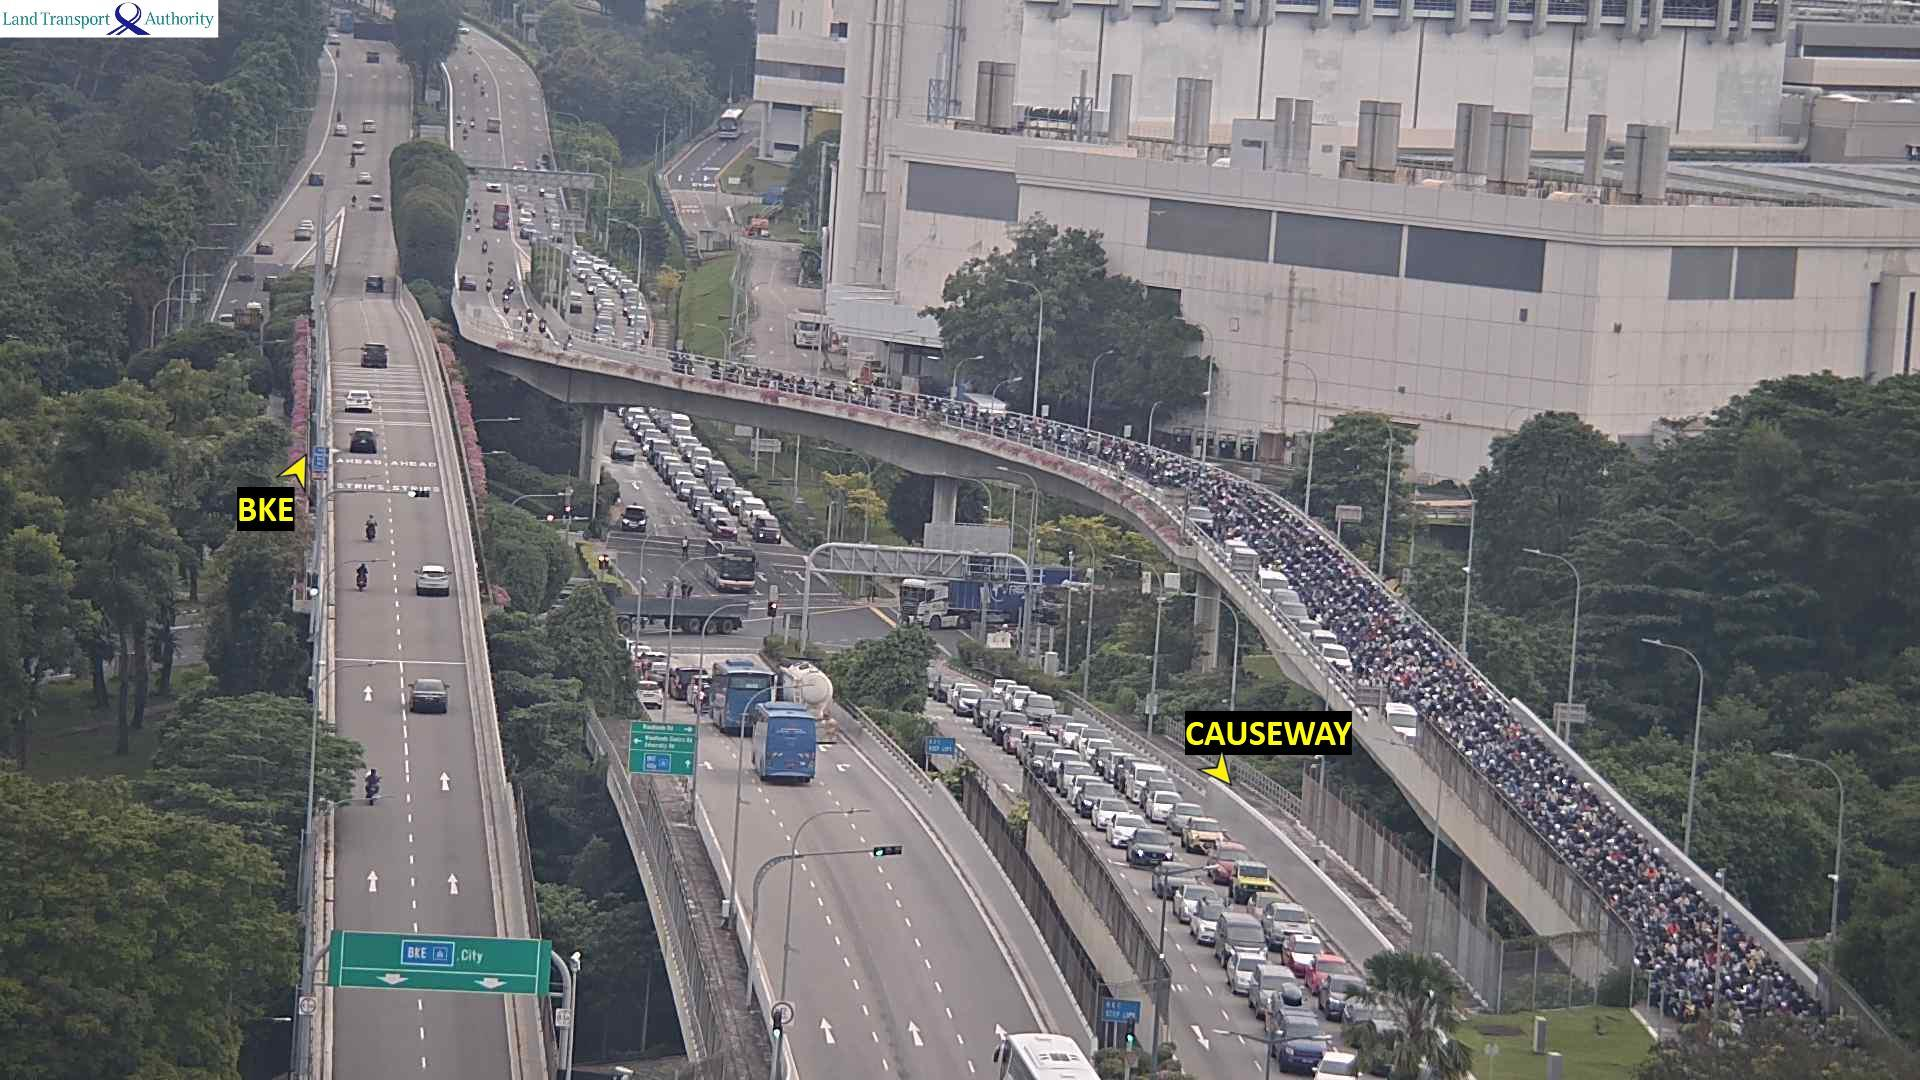vehicle-causeway-johor: (1223, 864, 1285, 904), (1153, 863, 1212, 898), (1247, 987, 1309, 1017), (1215, 923, 1273, 953), (1127, 834, 1182, 864), (1266, 904, 1310, 941), (1241, 969, 1301, 996), (1191, 899, 1228, 941), (1266, 1011, 1321, 1038), (1284, 934, 1323, 969), (1128, 765, 1167, 797), (1387, 704, 1417, 741), (1021, 736, 1059, 765), (1184, 820, 1222, 849), (1109, 816, 1149, 843), (1309, 955, 1343, 985), (1212, 844, 1246, 874), (1072, 778, 1111, 803), (1045, 752, 1078, 780), (1170, 804, 1202, 831), (1080, 784, 1114, 809), (955, 689, 989, 714), (1144, 781, 1175, 808), (1320, 644, 1351, 671), (1094, 799, 1124, 826), (1058, 765, 1090, 790), (1025, 697, 1057, 722), (1030, 745, 1060, 771), (1148, 792, 1179, 817), (996, 713, 1024, 740), (1258, 570, 1288, 595), (755, 517, 780, 544), (950, 683, 977, 706), (974, 700, 1003, 721), (1010, 692, 1038, 713), (1281, 601, 1307, 623), (1189, 507, 1212, 531), (1007, 729, 1031, 750), (1002, 686, 1030, 704), (980, 712, 1004, 733), (1272, 588, 1298, 606), (1311, 631, 1335, 648), (991, 679, 1015, 695), (1298, 620, 1321, 635), (716, 520, 735, 538), (494, 203, 507, 229), (676, 356, 694, 371), (460, 275, 475, 289), (727, 365, 740, 381), (745, 367, 758, 383), (864, 385, 876, 402), (526, 307, 535, 321), (713, 362, 720, 378), (538, 319, 546, 332), (474, 219, 481, 232), (504, 299, 509, 313), (505, 279, 512, 289), (486, 278, 491, 291), (488, 259, 493, 272), (467, 209, 471, 222), (483, 239, 486, 250)
vehicle-causeway-singapore: (749, 715, 819, 784), (1006, 1034, 1107, 1080), (711, 667, 783, 709), (409, 685, 453, 715), (414, 567, 454, 596), (360, 434, 390, 459), (351, 436, 376, 460), (340, 398, 372, 415), (357, 351, 386, 369), (363, 568, 380, 594), (367, 772, 378, 803), (366, 277, 385, 293), (412, 485, 435, 498), (362, 519, 375, 541)
